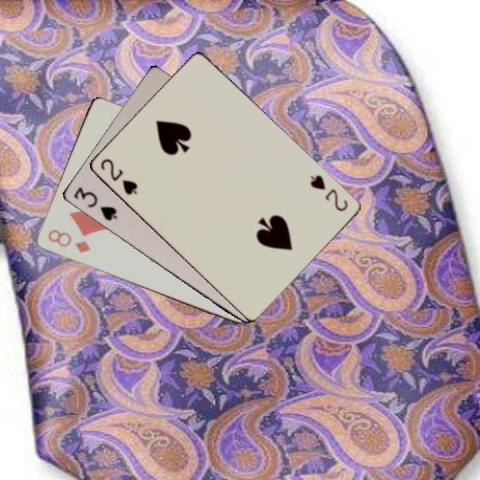2s: (307, 172, 349, 214), (97, 155, 139, 196)
3s: (70, 184, 118, 223)
8d: (44, 226, 91, 255)
